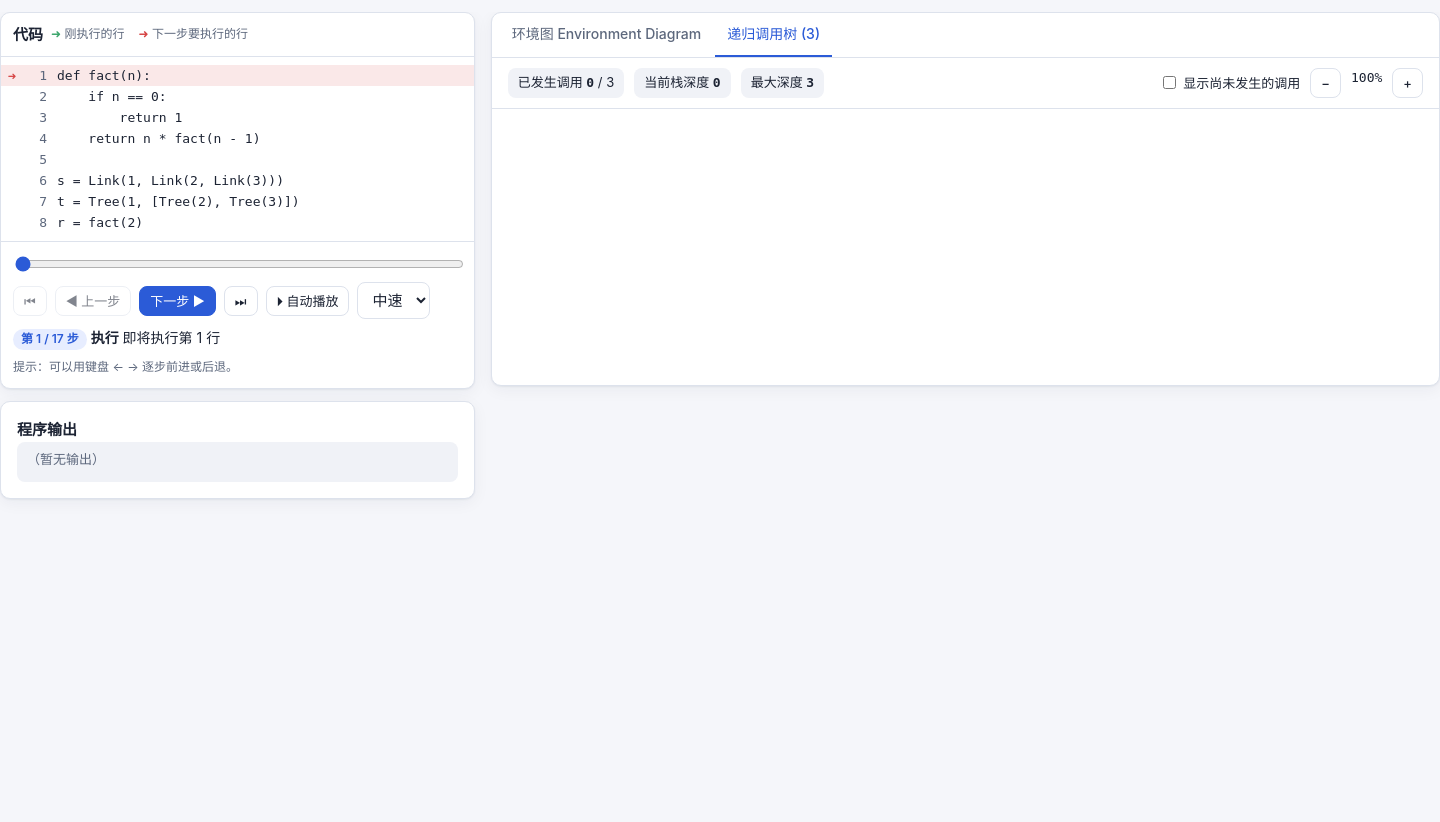
Test: Visualizer › explains truncated traces
This screenshot has width=1440, height=822.
Click the button named "最后一步" at (241, 301), box x1=224 y1=286 x2=258 y2=316
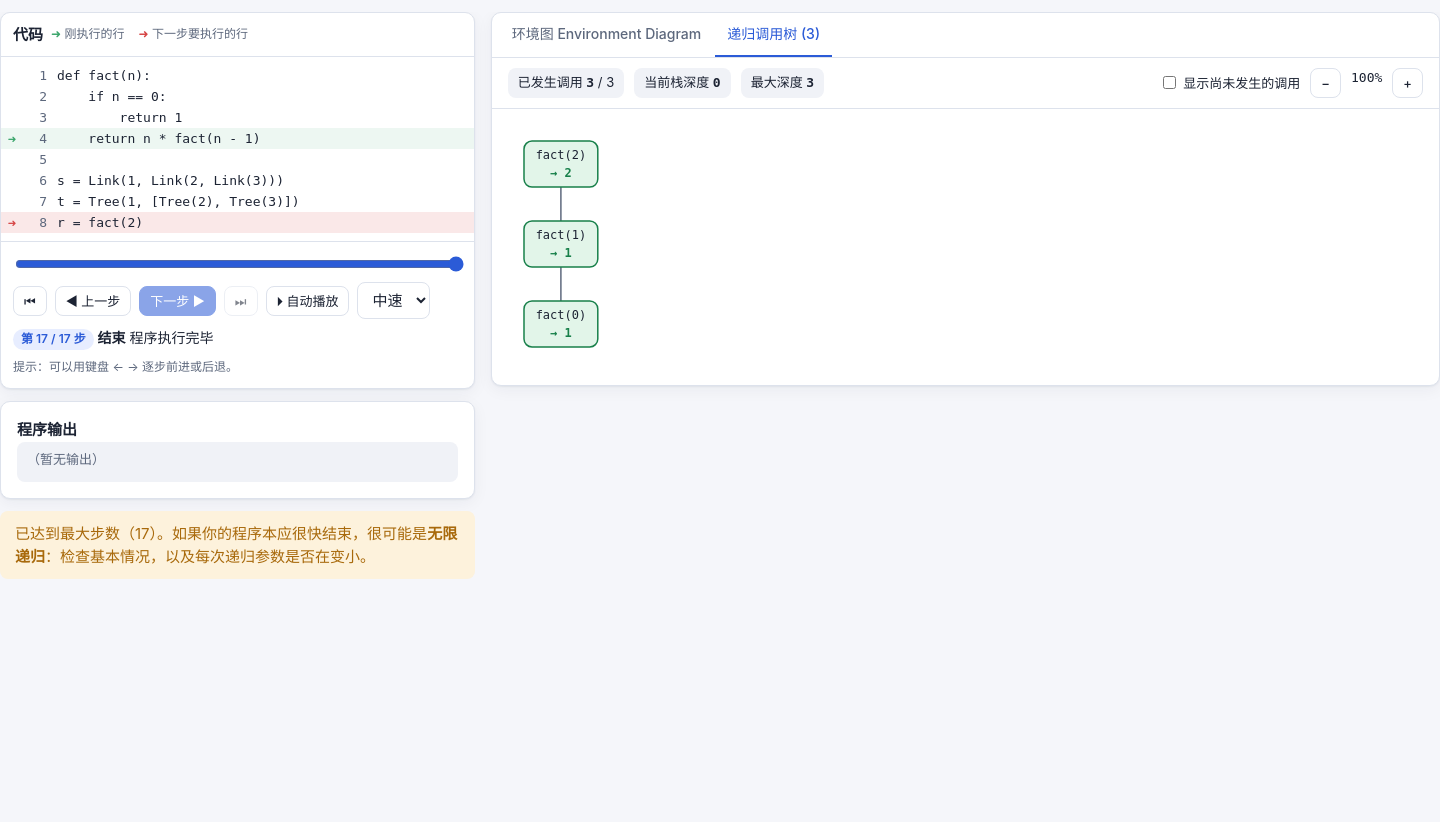
Result: the text "无限递归" is shown at x1=15 y1=524 x2=457 y2=566
